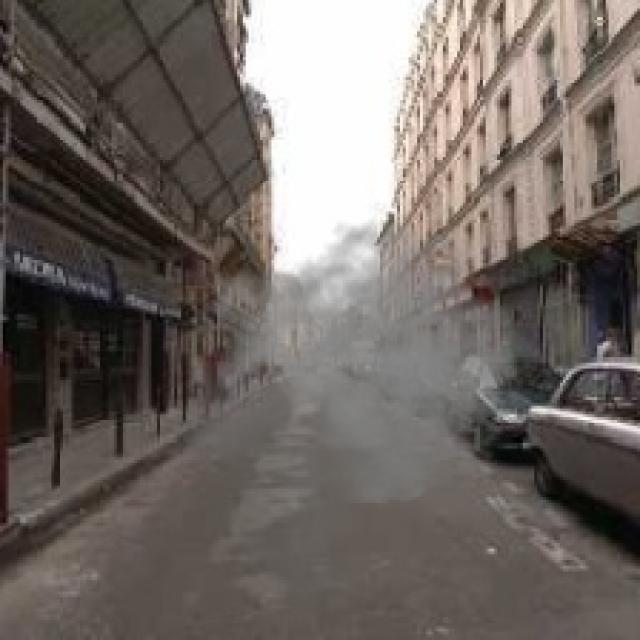smoke: (171, 212, 543, 608)
